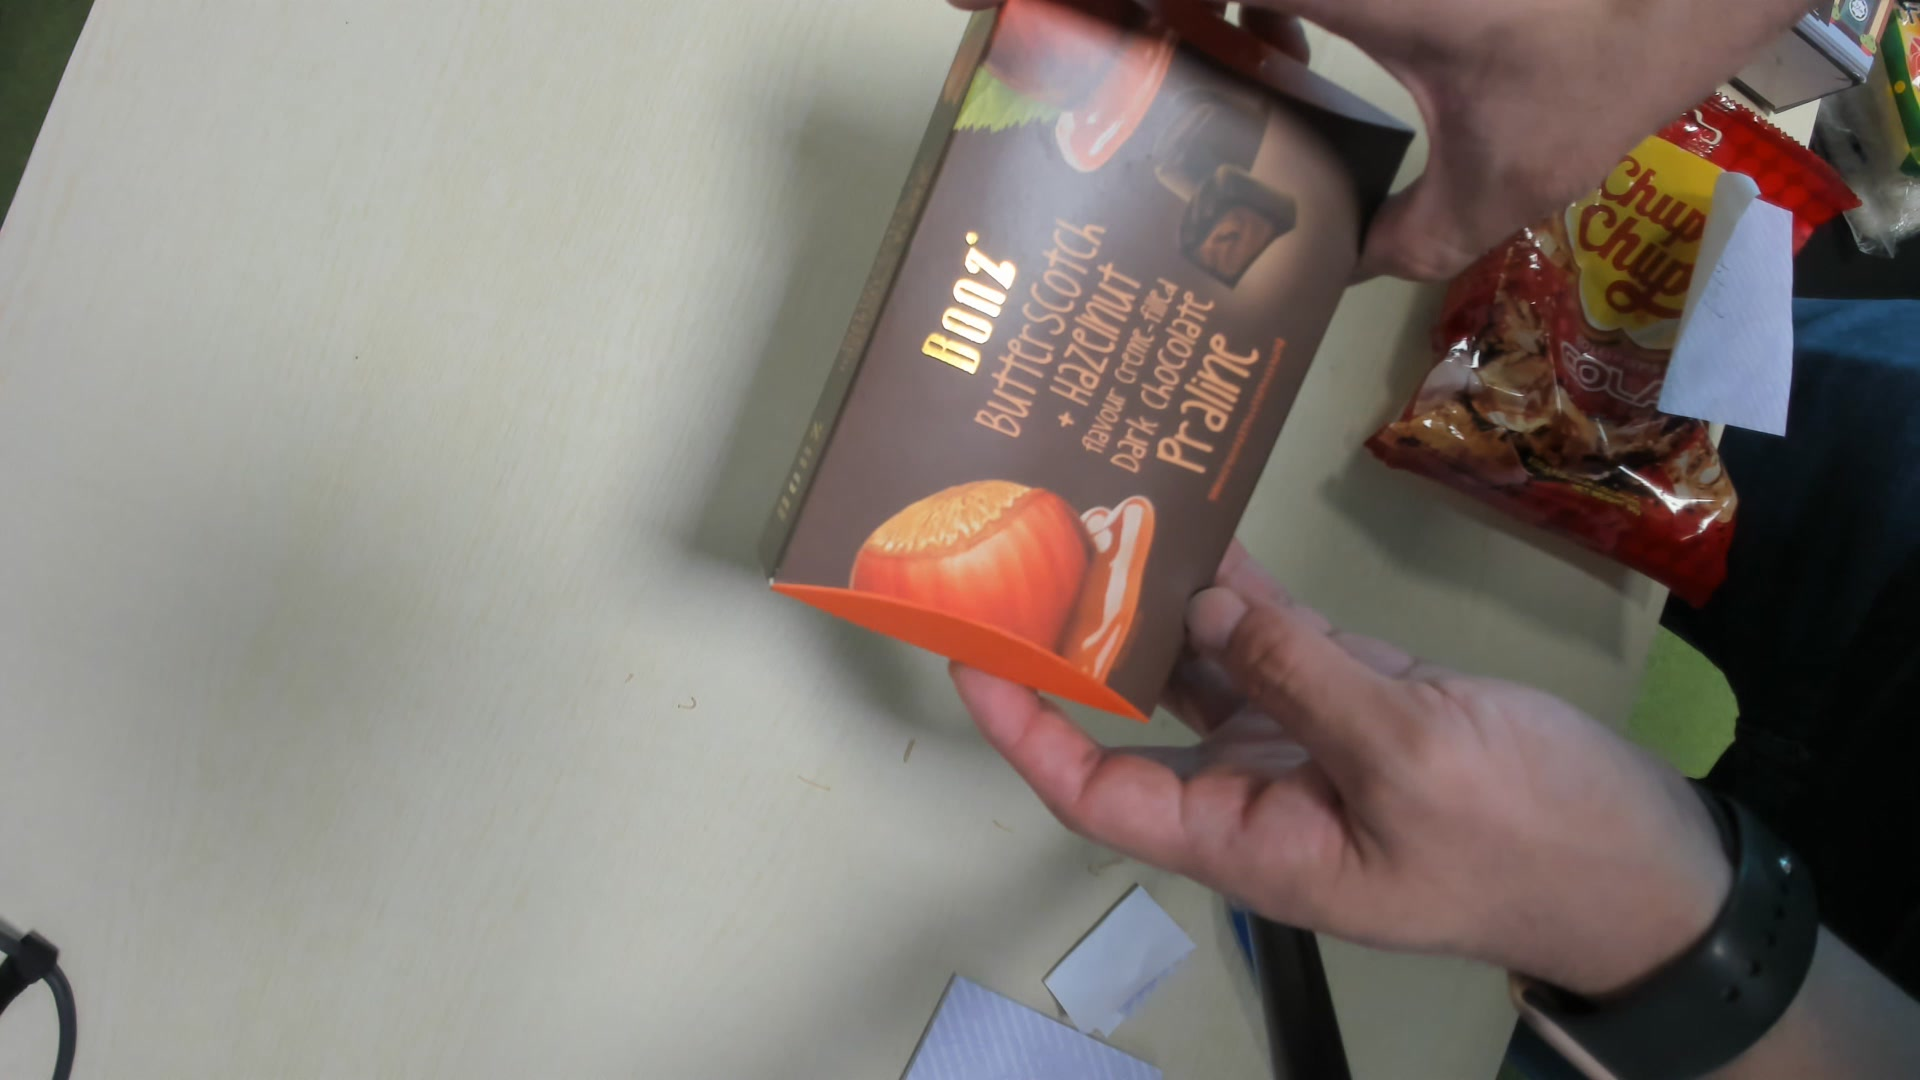SweetsChocolatesOthers_0-99g_NonHalal_Nonhealthy: (760, 28, 1433, 733)
